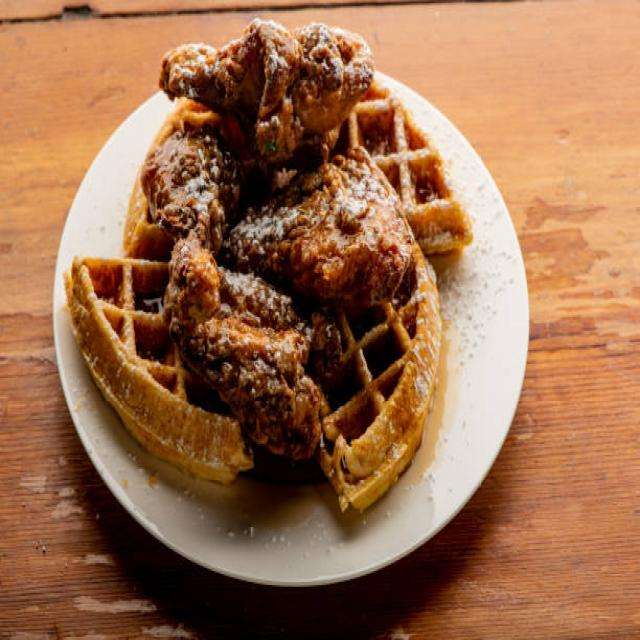Frango: (135, 19, 429, 455)
